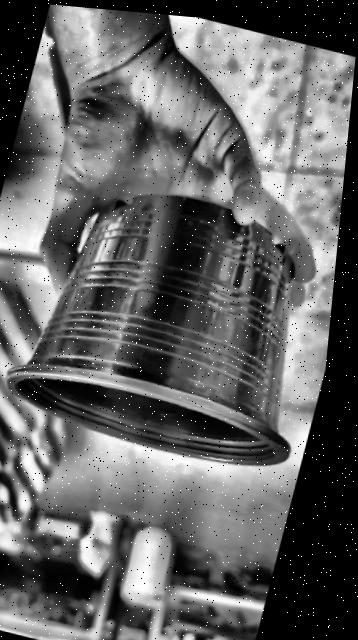pot: (6, 194, 291, 464)
